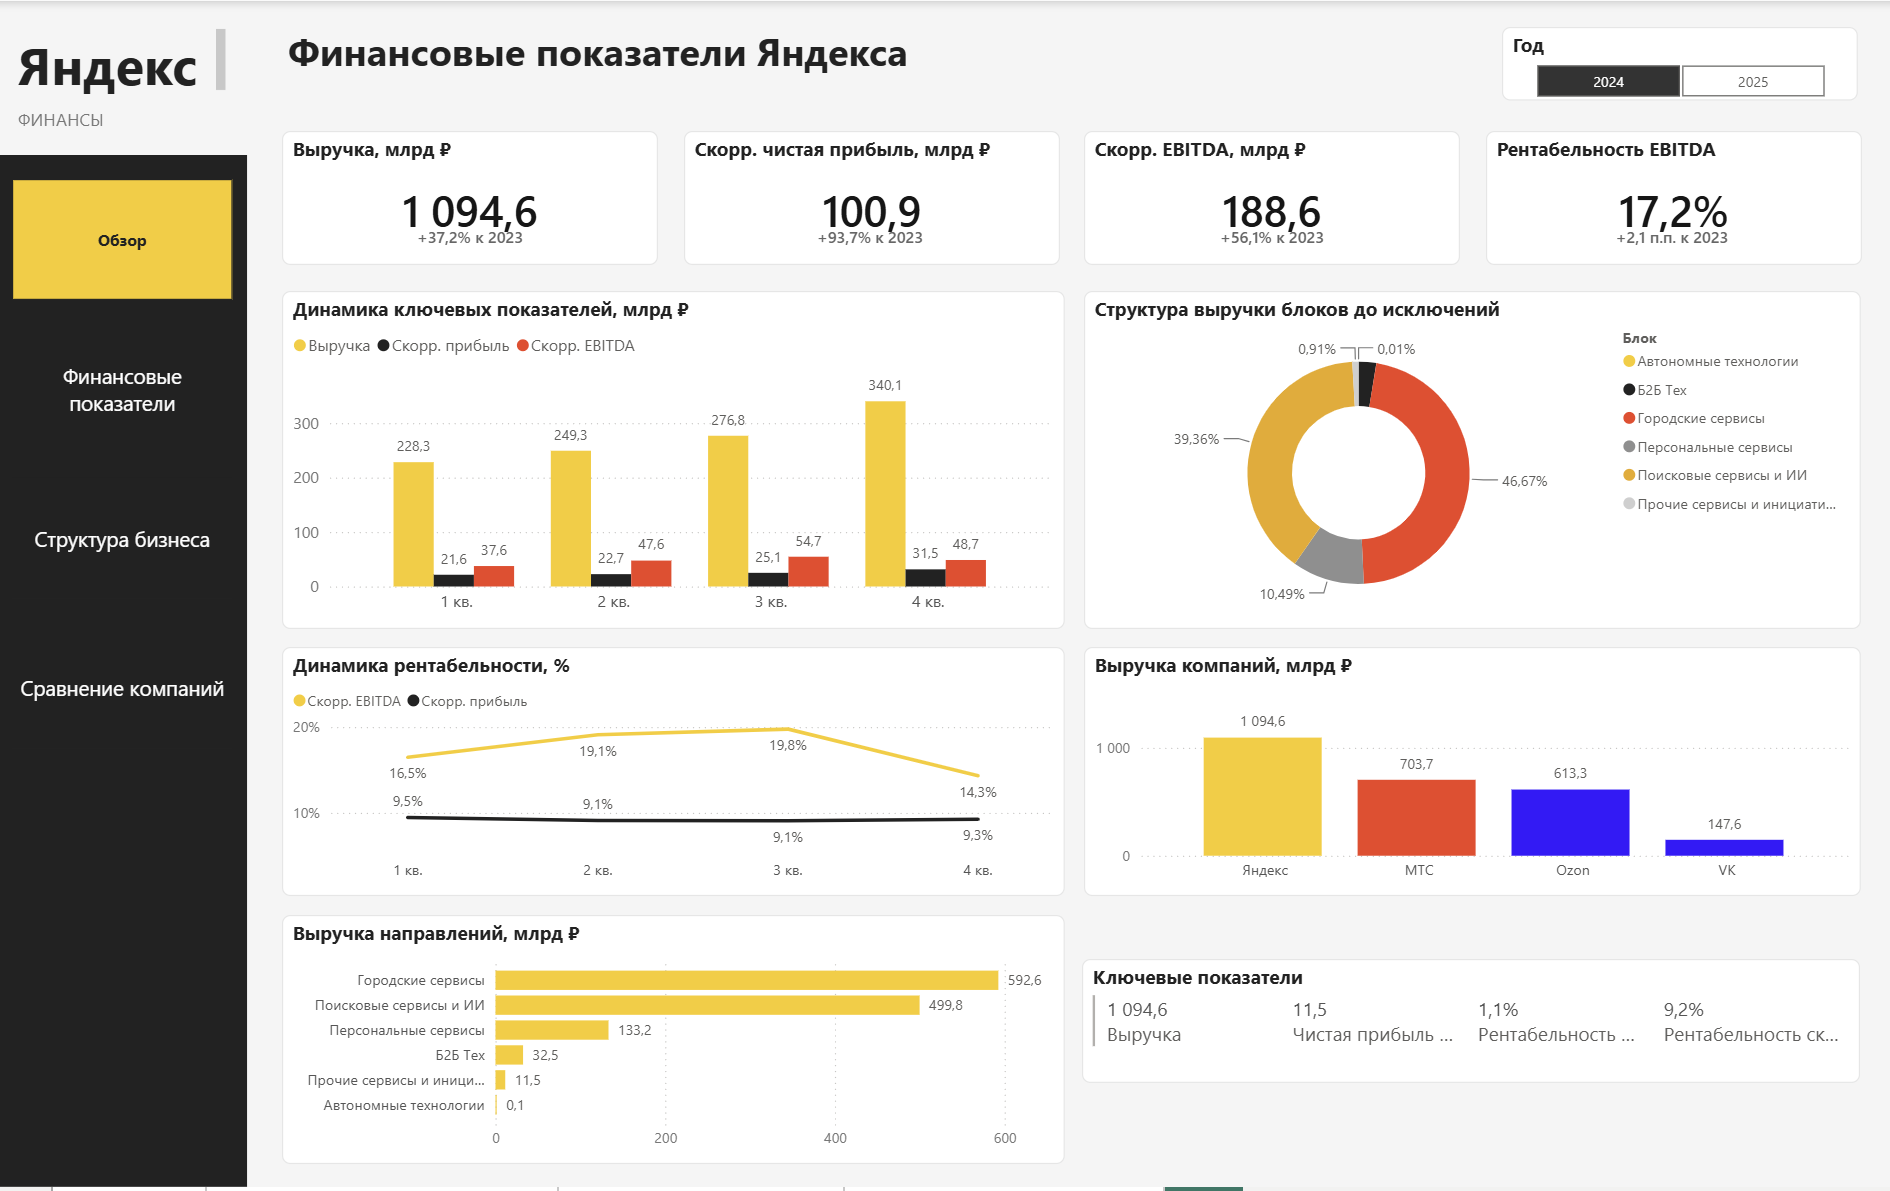

This screenshot's page, from the dashboard's own definition file:
{"tool":"powerbi","page":{"name":"Обзор","canvas":[1600,1000],"ordinal":0},"visuals":[{"type":"textbox","box":[12,18,185,65],"z":0},{"type":"textbox","box":[12,85,185,30],"z":1000},{"type":"textbox","box":[0,130,210,870],"z":2000},{"type":"textbox","box":[239.5,15.2,989.9,55.6],"z":3000},{"type":"slicer","title":"Год","fields":{"Values":["Period.Year"]},"box":[1268,22,300,62],"z":5000},{"type":"card","title":"Выручка, млрд ₽","fields":{"Values":["Period.Выручка"]},"box":[240,110,317,113],"z":6000},{"type":"card","fields":{"Values":["Period.Выручка · изменение"]},"box":[248,186,300,31],"z":7000},{"type":"card","title":"Скорр. чистая прибыль, млрд ₽","fields":{"Values":["Period.Скорр. чистая прибыль"]},"box":[578,110,317,113],"z":8000},{"type":"card","fields":{"Values":["Period.Скорр. чистая прибыль · изменение"]},"box":[586,186,300,31],"z":9000},{"type":"card","title":"Скорр. EBITDA, млрд ₽","fields":{"Values":["Period.Скорр. EBITDA"]},"box":[916,110,317,113],"z":10000},{"type":"card","fields":{"Values":["Period.Скорр. EBITDA · изменение"]},"box":[924,186,300,31],"z":11000},{"type":"card","title":"Рентабельность EBITDA","fields":{"Values":["Period.Рентабельность EBITDA"]},"box":[1254,110,317,113],"z":12000},{"type":"card","fields":{"Values":["Period.Маржа · изменение"]},"box":[1262,186,300,31],"z":13000},{"type":"clusteredColumnChart","title":"Динамика ключевых показателей, млрд ₽","fields":{"Category":["Quarterly.Quarter"],"Y":["Period.Выручка по кварталам","Period.Скорр. прибыль по кварталам","Period.EBITDA по кварталам"]},"box":[240,244,660,285],"z":14000},{"type":"donutChart","title":"Структура выручки блоков до исключений","fields":{"Category":["Segments.Block"],"Y":["Period.Выручка блока"]},"box":[916,244,655,285],"z":15000},{"type":"lineChart","title":"Динамика рентабельности, %","fields":{"Category":["Quarterly.Quarter"],"Y":["Period.Маржа EBITDA по кварталам","Period.Маржа прибыли по кварталам"]},"box":[240,545,660,210],"z":16000},{"type":"clusteredColumnChart","title":"Выручка компаний, млрд ₽","fields":{"Category":["Peers.Company"],"Y":["Period.Выручка компании"]},"box":[916,545,655,210],"z":17000},{"type":"barChart","title":"Выручка направлений, млрд ₽","fields":{"Category":["Segments.Block"],"Y":["Period.Выручка блока"]},"box":[240,771,660,210],"z":18000},{"type":"multiRowCard","title":"Ключевые показатели","fields":{"Values":["Period.Выручка","Period.Чистая прибыль МСФО","Period.Рентабельность МСФО","Period.Рентабельность скорр. прибыли"]},"box":[914,807.8,656,104.6],"z":19000},{"type":"pageNavigator","box":[12,150,186,480],"z":20000}]}

Visuals, with their boxes on the page's 1600x1000 design canvas (x1, y1, x2, y2). These are canvas units, not pixel positions in the 1890x1191 screenshot, which may show the page scaled, cropped or inside an application window:
textbox: (x1=12, y1=18, x2=197, y2=83)
textbox: (x1=12, y1=85, x2=197, y2=115)
textbox: (x1=0, y1=130, x2=210, y2=1000)
textbox: (x1=240, y1=15, x2=1229, y2=71)
"Год" slicer: (x1=1268, y1=22, x2=1568, y2=84)
"Выручка, млрд ₽" card: (x1=240, y1=110, x2=557, y2=223)
card - Period.Выручка · изменение: (x1=248, y1=186, x2=548, y2=217)
"Скорр. чистая прибыль, млрд ₽" card: (x1=578, y1=110, x2=895, y2=223)
card - Period.Скорр. чистая прибыль · изменение: (x1=586, y1=186, x2=886, y2=217)
"Скорр. EBITDA, млрд ₽" card: (x1=916, y1=110, x2=1233, y2=223)
card - Period.Скорр. EBITDA · изменение: (x1=924, y1=186, x2=1224, y2=217)
"Рентабельность EBITDA" card: (x1=1254, y1=110, x2=1571, y2=223)
card - Period.Маржа · изменение: (x1=1262, y1=186, x2=1562, y2=217)
"Динамика ключевых показателей, млрд ₽" clusteredColumnChart: (x1=240, y1=244, x2=900, y2=529)
"Структура выручки блоков до исключений" donutChart: (x1=916, y1=244, x2=1571, y2=529)
"Динамика рентабельности, %" lineChart: (x1=240, y1=545, x2=900, y2=755)
"Выручка компаний, млрд ₽" clusteredColumnChart: (x1=916, y1=545, x2=1571, y2=755)
"Выручка направлений, млрд ₽" barChart: (x1=240, y1=771, x2=900, y2=981)
"Ключевые показатели" multiRowCard: (x1=914, y1=808, x2=1570, y2=912)
pageNavigator: (x1=12, y1=150, x2=198, y2=630)
